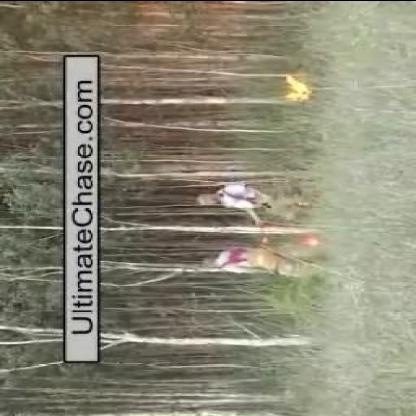foggia-v2-map80-epoch100 - v1 4323: (291, 73, 315, 101)
